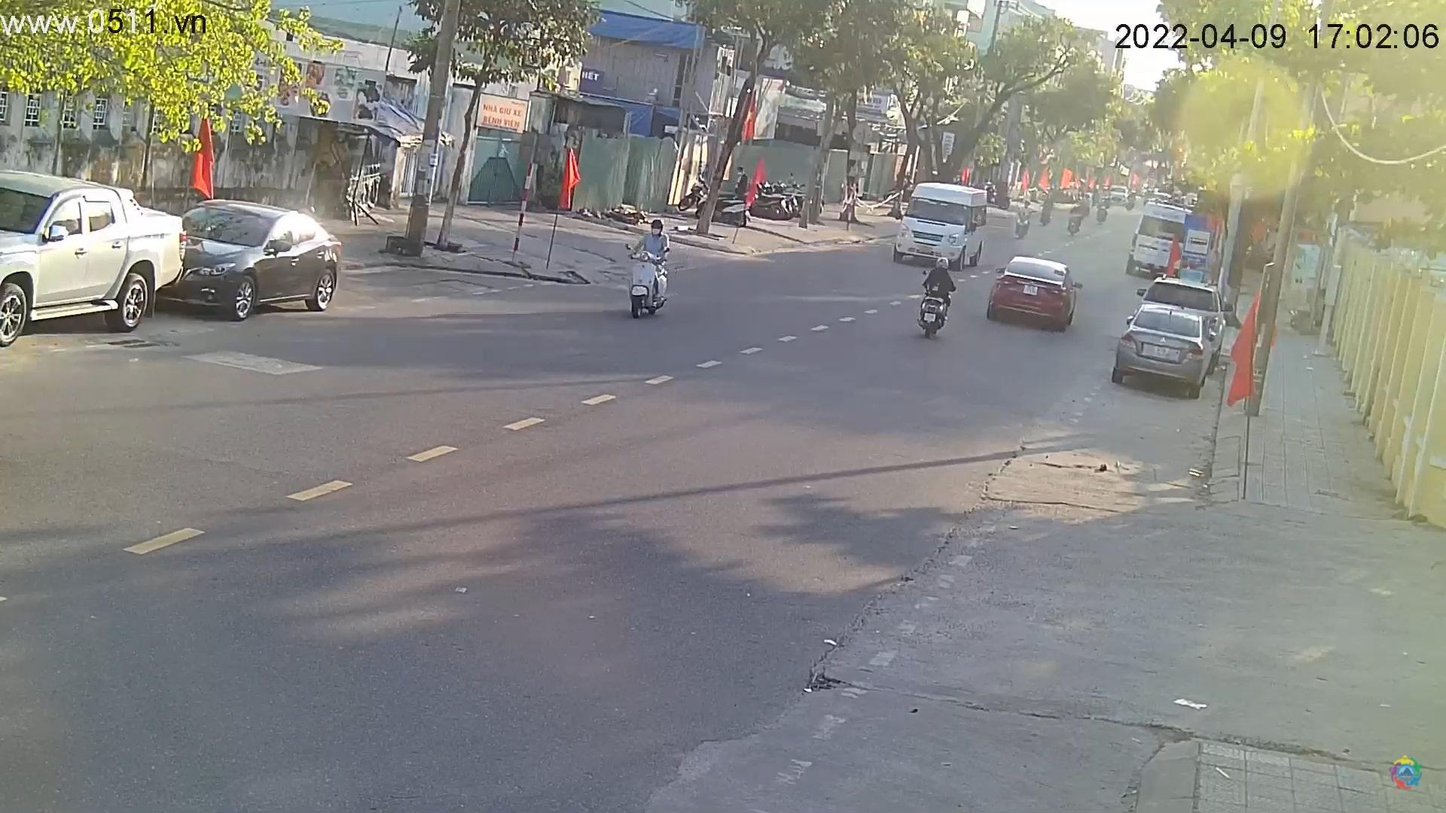car: (2, 168, 188, 351), (166, 201, 350, 323), (898, 182, 996, 269)
motorbike: (622, 242, 674, 323)
